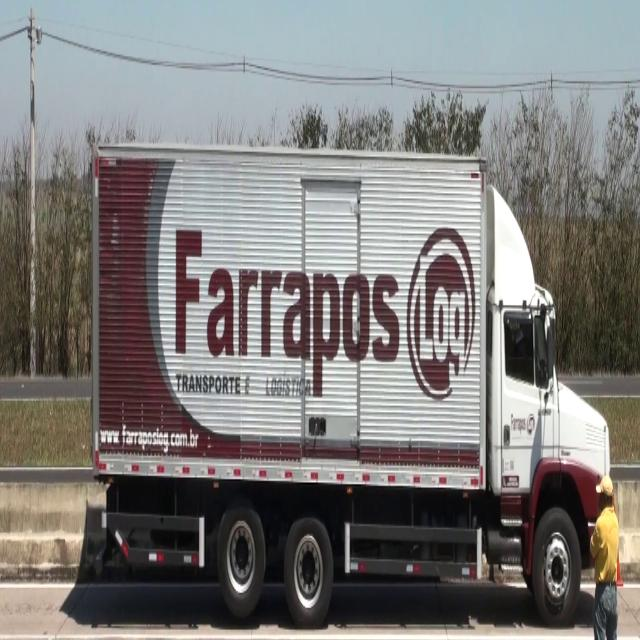-axle: (532, 498, 581, 631), (284, 511, 336, 626), (218, 496, 266, 608)
